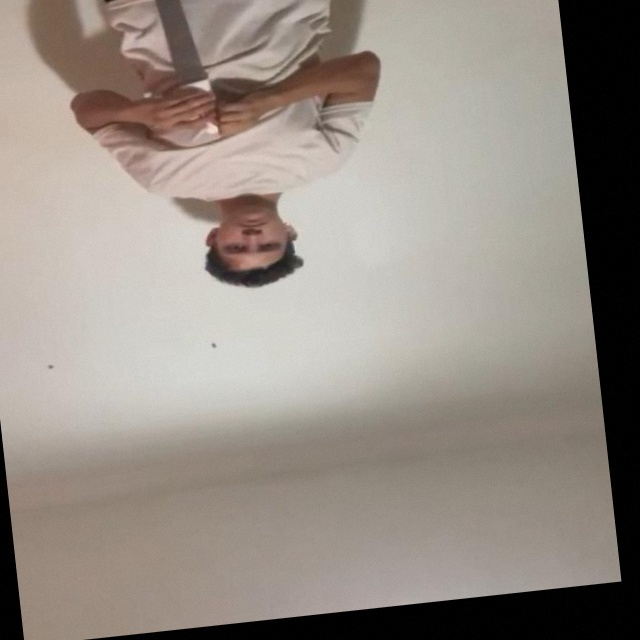Sharp-Object: (156, 0, 201, 88)
